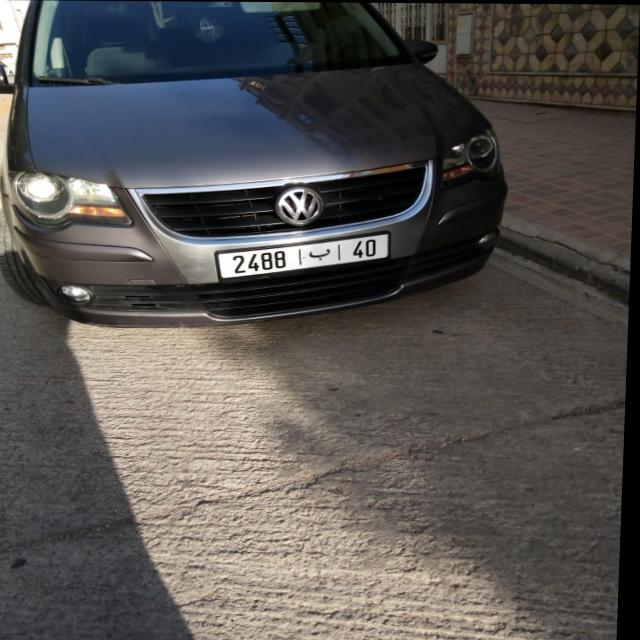License-Plate: (219, 232, 392, 279)
